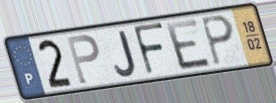2: (37, 38, 74, 90)
E: (163, 17, 214, 72)
F: (130, 21, 166, 77)
J: (113, 29, 138, 78)
P: (198, 14, 236, 68), (65, 33, 102, 87)
